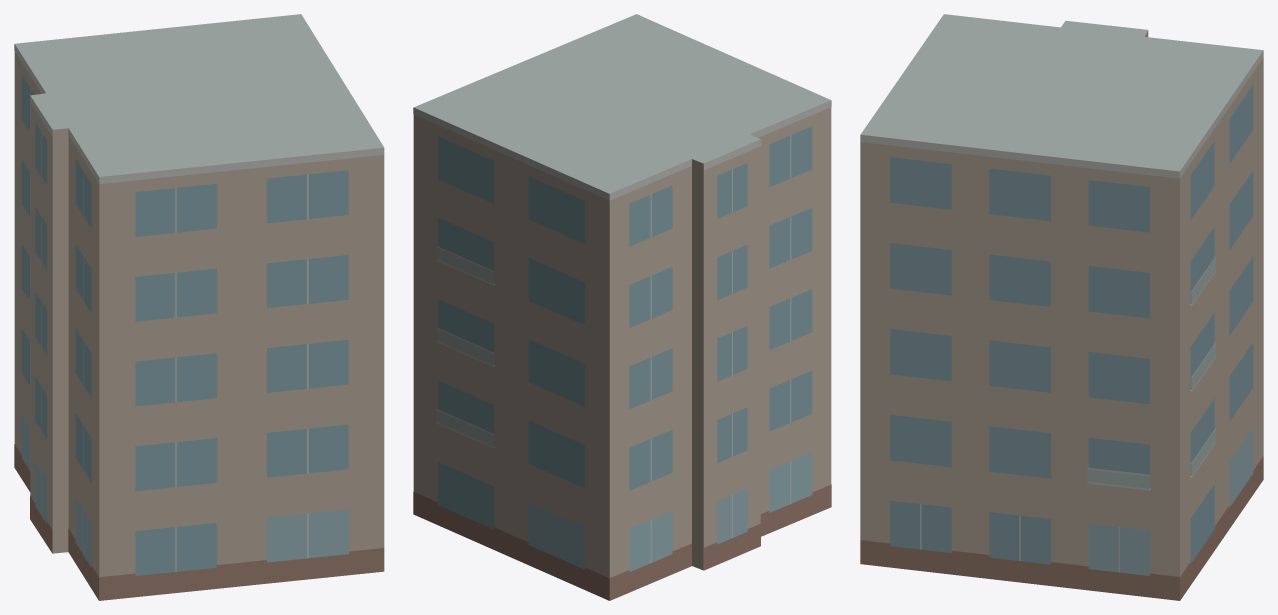
The model's file is survey-upis-32709251.glb.
3 renders of one model, left to right at view 1: azimuth 30°, elevation 25°; view 2: azimuth 150°, elevation 25°; view 3: azimuth 270°, elevation 25°, orthographic. The views are drawn at different scales.
Visible parts, largest first — view 1: survey-upis-32709251.tmp; view 2: survey-upis-32709251.tmp; view 3: survey-upis-32709251.tmp.
Part boxes in pixels (x1,y1,x2,y2): survey-upis-32709251.tmp: (14,14,384,600); survey-upis-32709251.tmp: (413,14,831,600); survey-upis-32709251.tmp: (860,14,1263,600).
Bounding box in the file's own units: 11.46 × 14.55 × 12.39.
